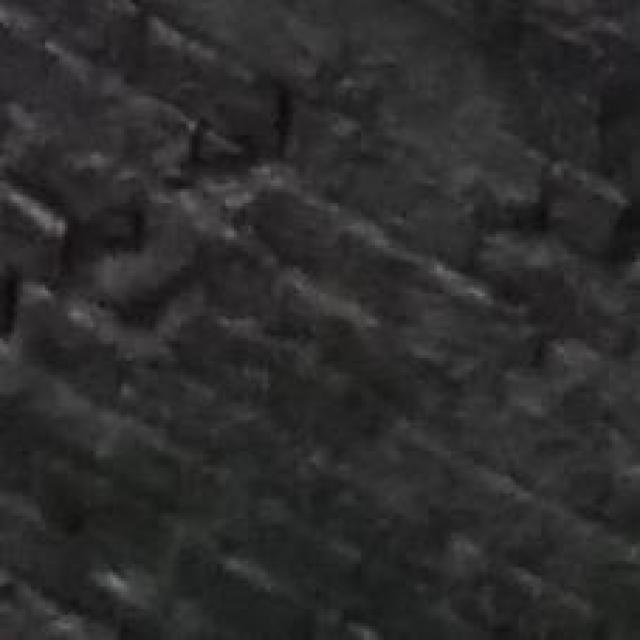Crack: (9, 33, 283, 402)
